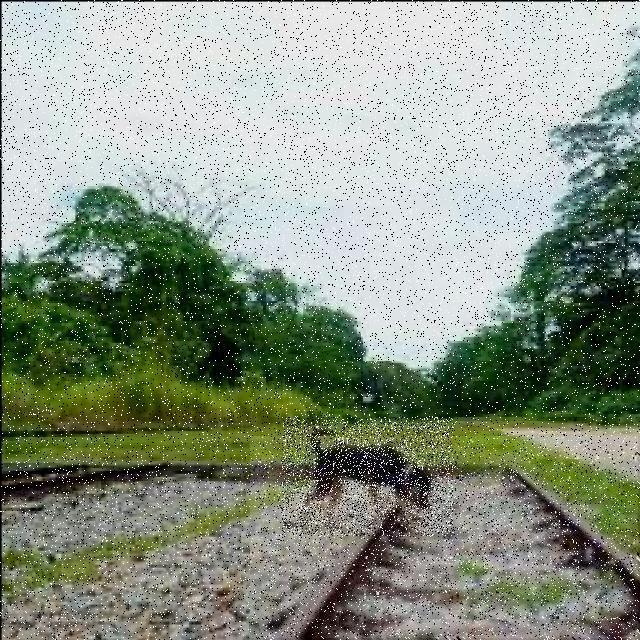rail: (251, 438, 639, 639)
